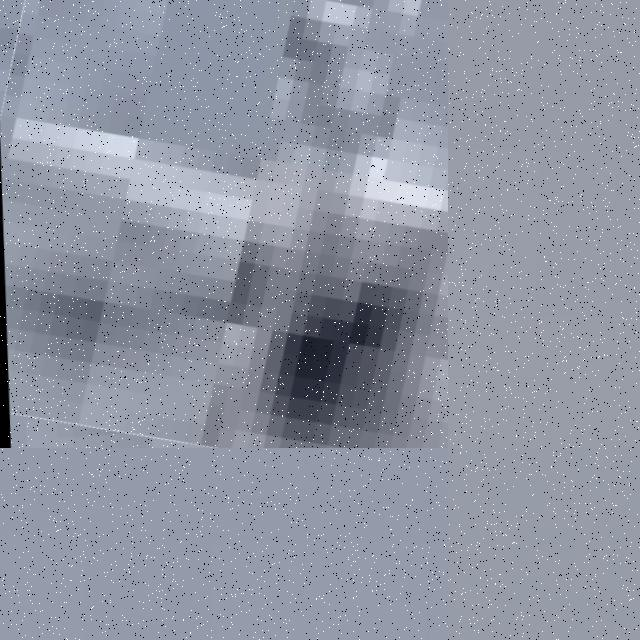drone: (0, 0, 448, 448)
